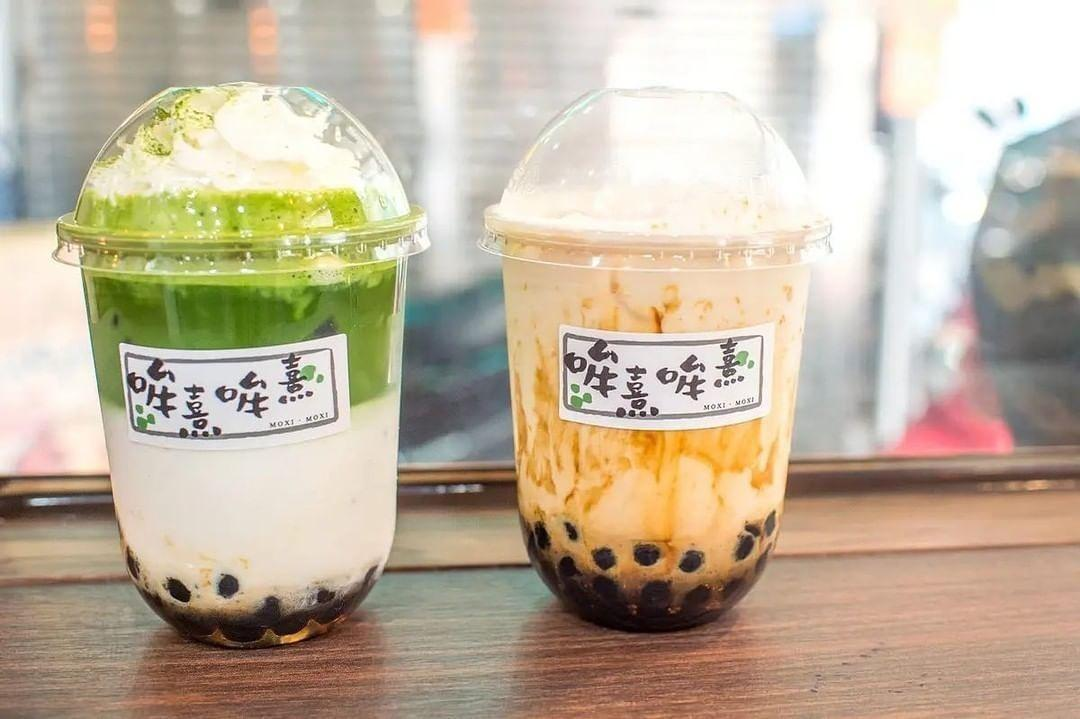cup-disposable: (49, 78, 437, 646), (478, 76, 835, 636)
